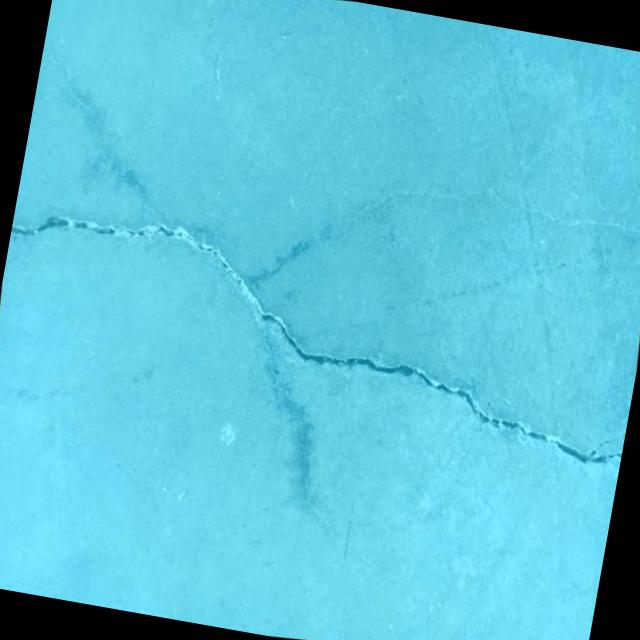crack: (0, 164, 640, 511)
